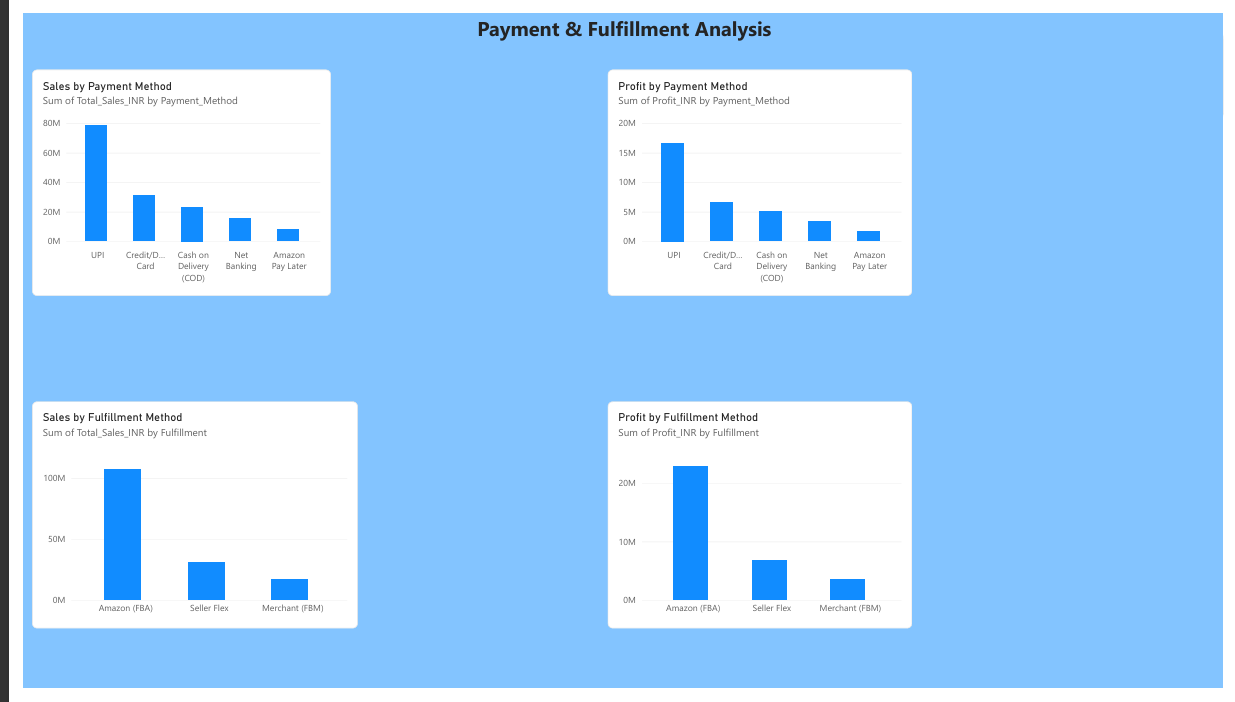

What the dashboard file says about the page in this screenshot:
{"tool":"powerbi","page":{"name":"Payment & Fulfillment Analysis","canvas":[1920,1080],"ordinal":2},"visuals":[{"type":"textbox","box":[10.1,0,1909.4,121.6],"z":0},{"type":"clusteredColumnChart","title":"Sales by Payment Method","fields":{"Category":["Sheet1.Payment_Method"],"Y":["Sum(Sheet1.Total_Sales_INR)"]},"box":[12.7,88.6,478.6,362.1],"z":1},{"type":"clusteredColumnChart","title":"Profit by Payment Method","fields":{"Category":["Sheet1.Payment_Method"],"Y":["Sum(Sheet1.Profit_INR)"]},"box":[934.4,88.6,486.2,362.1],"z":2},{"type":"clusteredColumnChart","title":"Sales by Fulfillment Method","fields":{"Category":["Sheet1.Fulfillment"],"Y":["Sum(Sheet1.Total_Sales_INR)"]},"box":[12.7,620.4,521.7,362.1],"z":3},{"type":"clusteredColumnChart","title":"Profit by Fulfillment Method","fields":{"Category":["Sheet1.Fulfillment"],"Y":["Sum(Sheet1.Profit_INR)"]},"box":[934.4,620.4,486.2,362.1],"z":4}]}

Visuals, with their boxes in screenshot pixels (x1, y1, x2, y2), scaled from the page's 1920x1080 canvas onto the 1235x702 screenshot:
textbox: 6/0/1234/79
"Sales by Payment Method" clusteredColumnChart: 8/58/316/293
"Profit by Payment Method" clusteredColumnChart: 601/58/914/293
"Sales by Fulfillment Method" clusteredColumnChart: 8/403/344/639
"Profit by Fulfillment Method" clusteredColumnChart: 601/403/914/639
